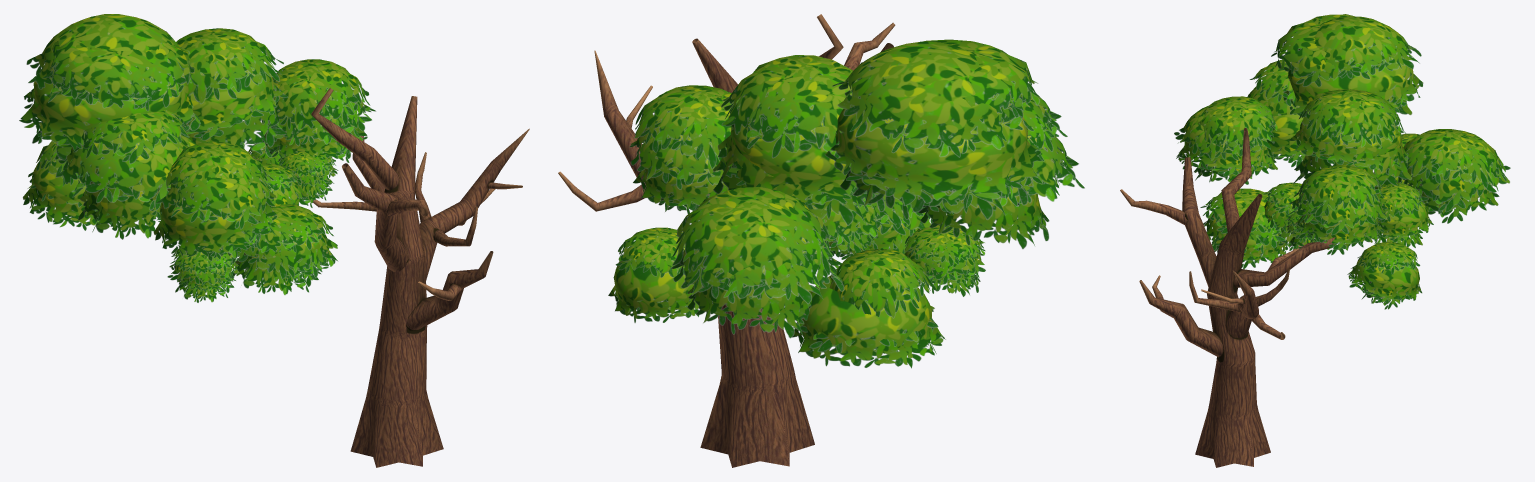
The model's file is tree-ktx.glb.
3 views of the same model, side by side, from view 1: azimuth 30°, elevation 25°; view 2: azimuth 150°, elevation 25°; view 3: azimuth 270°, elevation 25° (orthographic). The views are drawn at different scales.
Bounding box in the file's own units: 5.85 × 5.5 × 5.78.
Materials: 2 (2 with a texture image).
